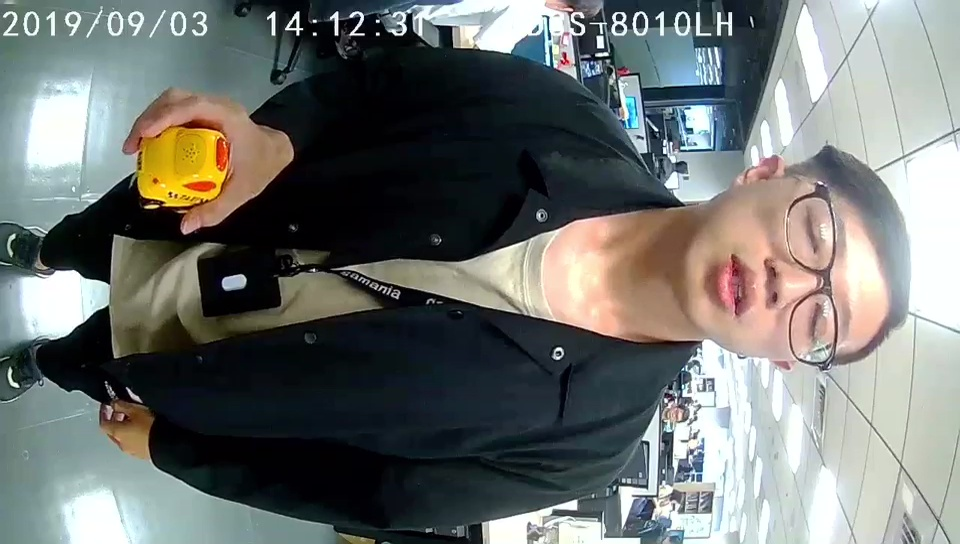car: (135, 125, 230, 206)
